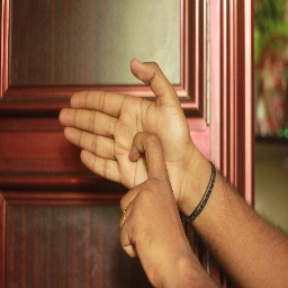R: (57, 53, 196, 226)
